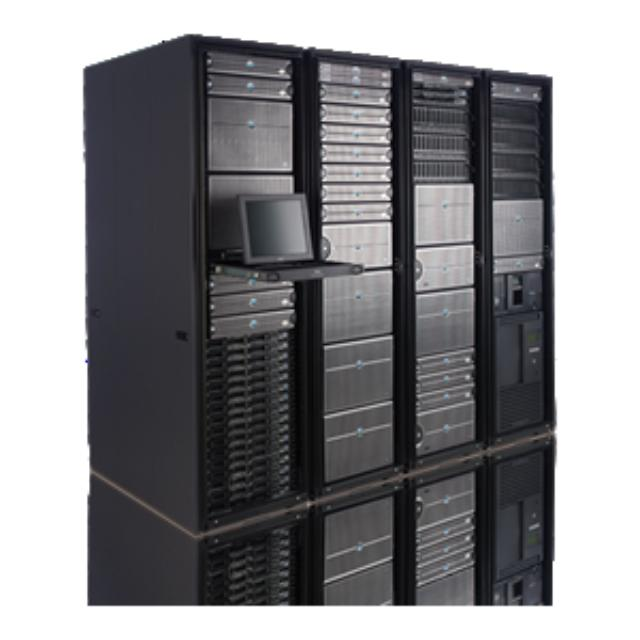Server: (80, 27, 558, 559)
